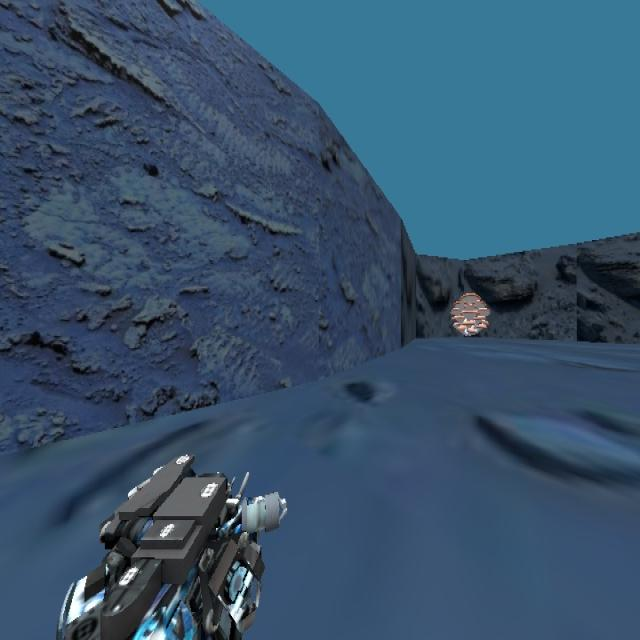Mushroom: (449, 291, 491, 337)
